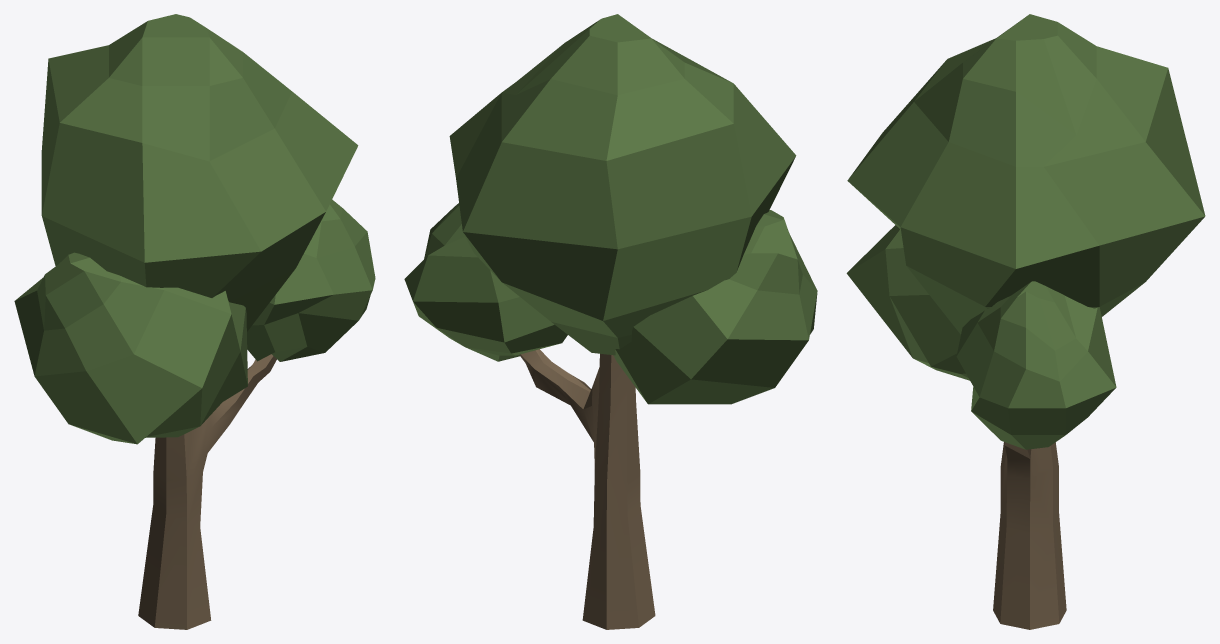
File: otherRound_tree.fbx
3 renders of one model, left to right at view 1: azimuth 30°, elevation 25°; view 2: azimuth 150°, elevation 25°; view 3: azimuth 270°, elevation 25°, orthographic.
Parts seen in each view (by area): view 1: pSphere1, pSphere2, otherTrunk, pSphere3; view 2: pSphere1, pSphere2, otherTrunk, pSphere3; view 3: pSphere1, pSphere3, otherTrunk, pSphere2.
Part boxes in pixels (x1,y1,x2,y2): pSphere1: (41, 14, 358, 331); pSphere2: (14, 252, 247, 444); otherTrunk: (138, 354, 276, 629); pSphere3: (247, 199, 375, 361); pSphere1: (449, 14, 796, 355); pSphere2: (613, 210, 817, 404); otherTrunk: (519, 349, 655, 629); pSphere3: (404, 203, 567, 361); pSphere1: (847, 14, 1205, 334); pSphere3: (956, 281, 1116, 449); otherTrunk: (993, 442, 1066, 629); pSphere2: (846, 225, 969, 380).
Size of the model in its own units: 243 by 376 by 209.
